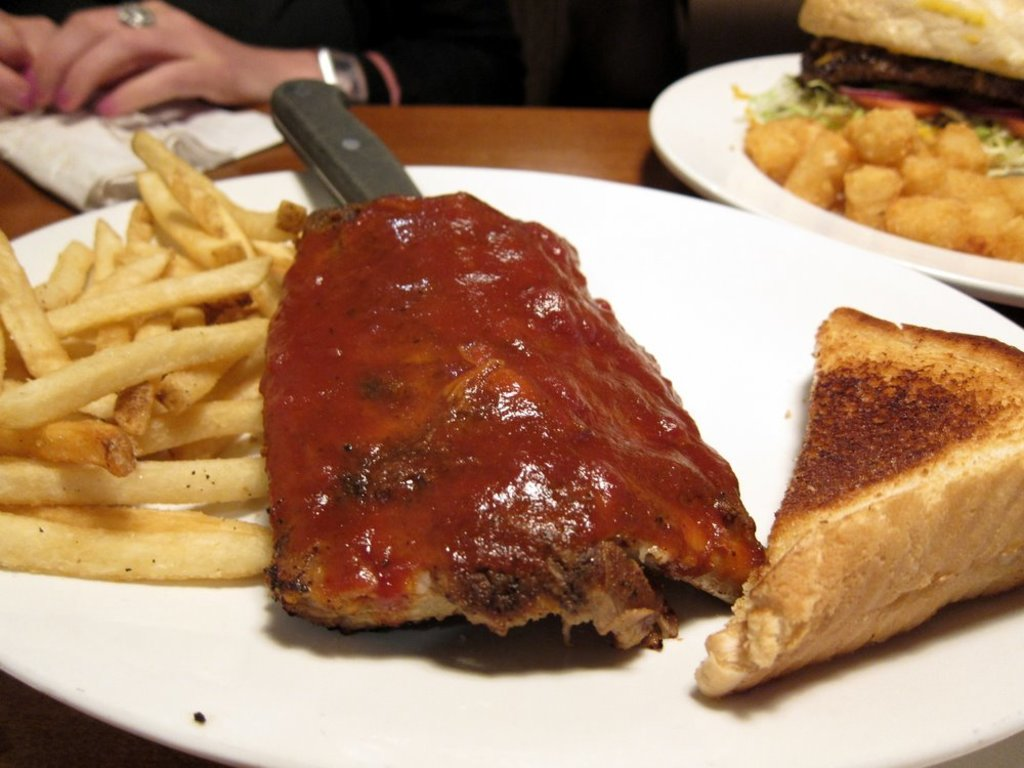French fries: (10, 97, 324, 479), (752, 111, 1022, 259)
